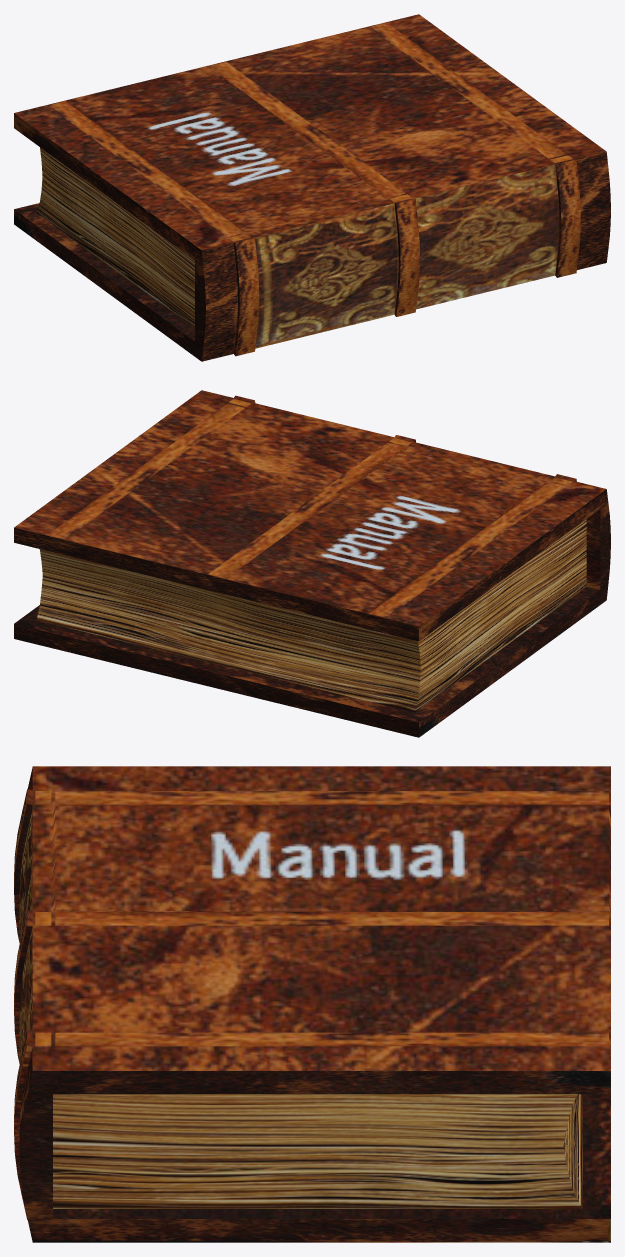
The model's file is Manual.fbx.
3 renders of one model, top to bottom at view 1: azimuth 30°, elevation 25°; view 2: azimuth 150°, elevation 25°; view 3: azimuth 270°, elevation 25°, orthographic. The views are drawn at different scales.
Parts seen in each view (by area): view 1: pasted__book16; view 2: pasted__book16; view 3: pasted__book16.
Part boxes in pixels (box(x1,y1,x2,y2)): pasted__book16: box(14, 14, 610, 361); pasted__book16: box(14, 390, 610, 737); pasted__book16: box(14, 766, 610, 1242).
Size of the model in its own units: 3.77 by 1.01 by 3.12.
Materials: 1 (1 with a texture image).
